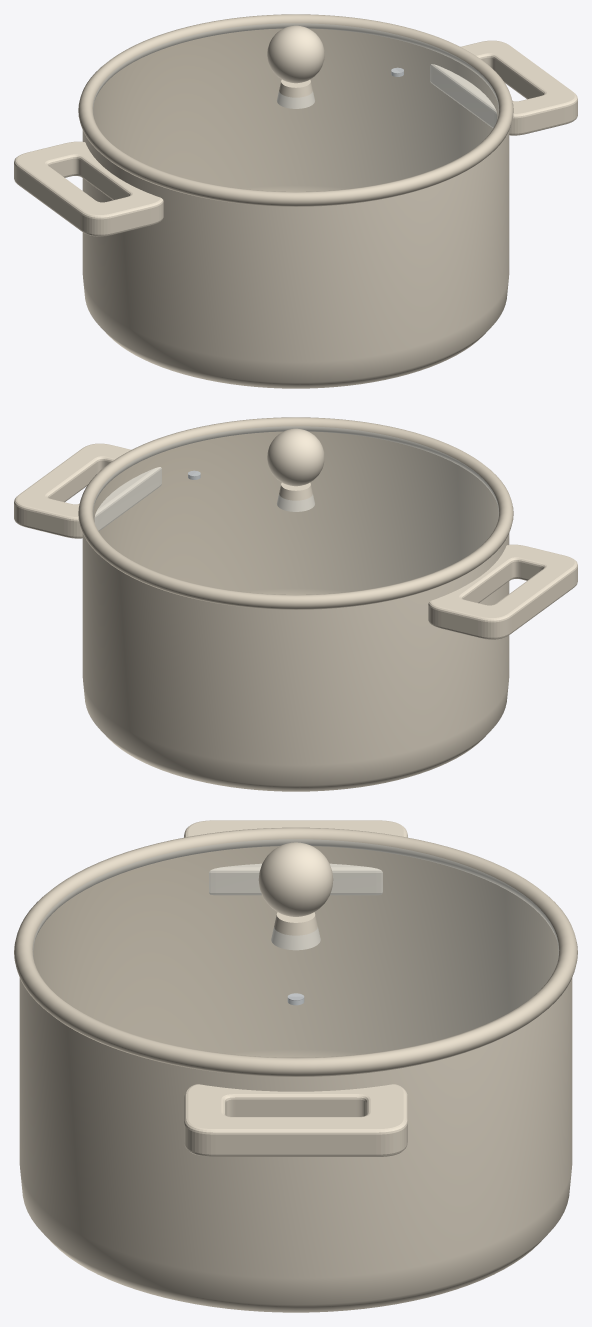
File: chou-chou.glb
The picture shows the model from 3 angles, top to bottom: view 1: azimuth 30°, elevation 25°; view 2: azimuth 150°, elevation 25°; view 3: azimuth 270°, elevation 25°; orthographic projection. The views are drawn at different scales.
Visible parts, largest first — view 1: Shell, LidGlass, Interior, LidRim, Handle (×2), Knob, KnobNeck; view 2: Shell, LidGlass, Interior, LidRim, Handle (×2), Knob, KnobNeck; view 3: Shell, LidGlass, Interior, LidRim, Handle (×2), Knob, KnobNeck.
Boxes of the visible parts, <box> form: Shell: <box>82,130,509,388</box>; LidGlass: <box>93,23,498,191</box>; Interior: <box>93,28,498,191</box>; LidRim: <box>78,14,513,206</box>; Handle (×2): <box>14,40,577,236</box>; Knob: <box>267,25,324,83</box>; KnobNeck: <box>277,79,314,108</box>; Shell: <box>82,533,509,791</box>; LidGlass: <box>93,426,498,594</box>; Interior: <box>93,431,498,594</box>; LidRim: <box>78,417,513,609</box>; Handle (×2): <box>14,443,577,639</box>; Knob: <box>267,428,324,486</box>; KnobNeck: <box>277,482,314,511</box>; Shell: <box>19,978,572,1312</box>; LidGlass: <box>33,839,558,1057</box>; Interior: <box>33,846,558,1057</box>; LidRim: <box>14,827,577,1076</box>; Handle (×2): <box>184,820,407,1156</box>; Knob: <box>258,842,333,916</box>; KnobNeck: <box>271,912,320,950</box>.
Size of the model in its own units: 0.267 by 0.144 by 0.204.
